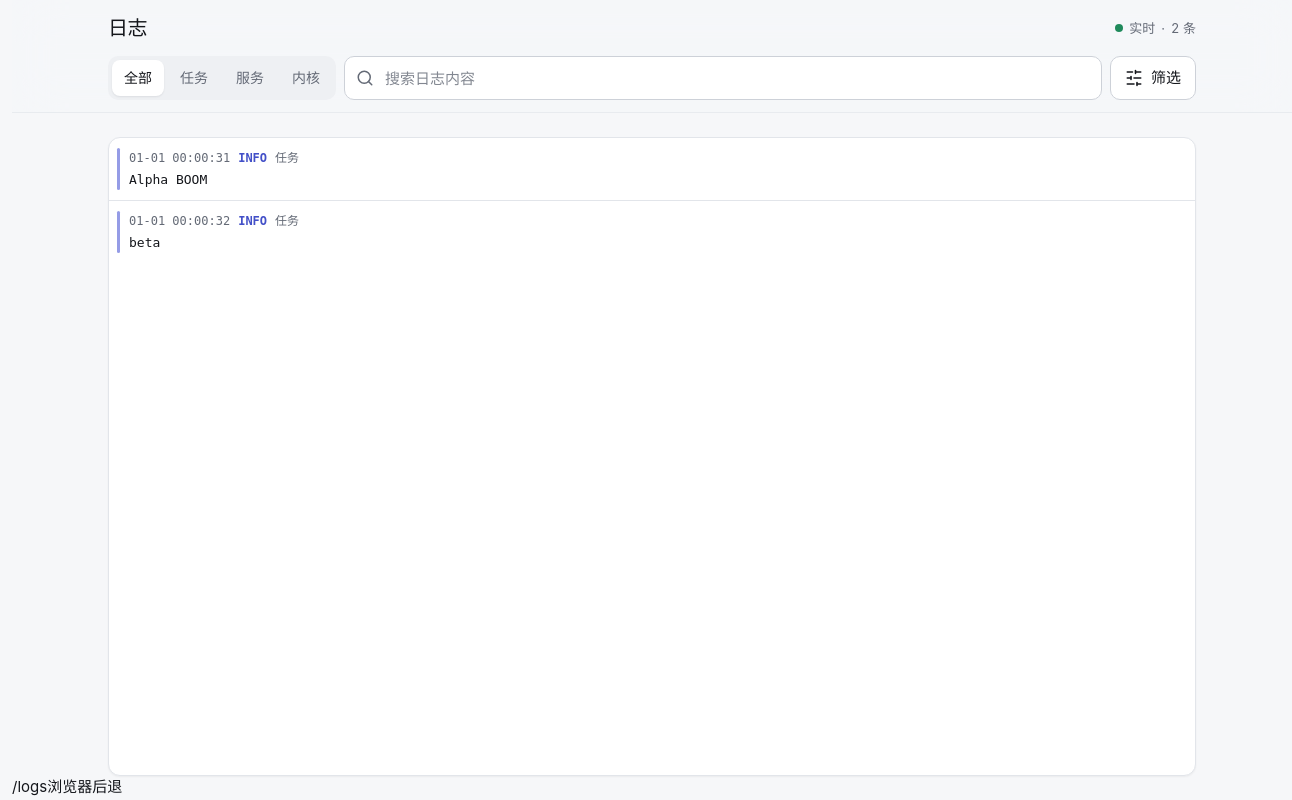
Test: logs page › searches content locally and sends the keyword to the history query
The image size is (1292, 800).
Expected: the text "beta" is shown, [129,235,160,250]
Type "boom" into the search field labelled "搜索日志". click: (723, 78)
box: [344,56,1102,100]
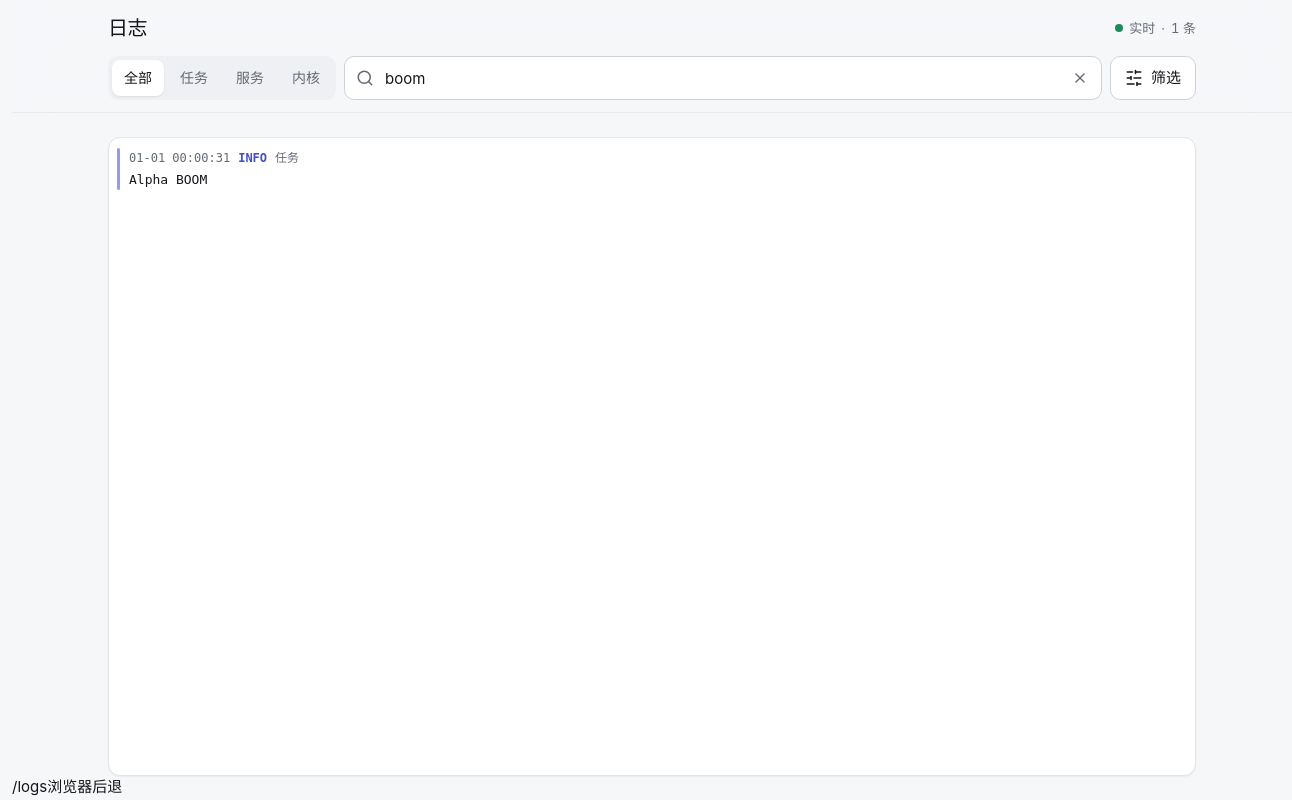
Expected: the text "Alpha BOOM" is shown, [129,172,207,187]
Expected: the button "beta" is gone
Click the button named "清除搜索". click: (1080, 78)
box: [1058,56,1102,100]
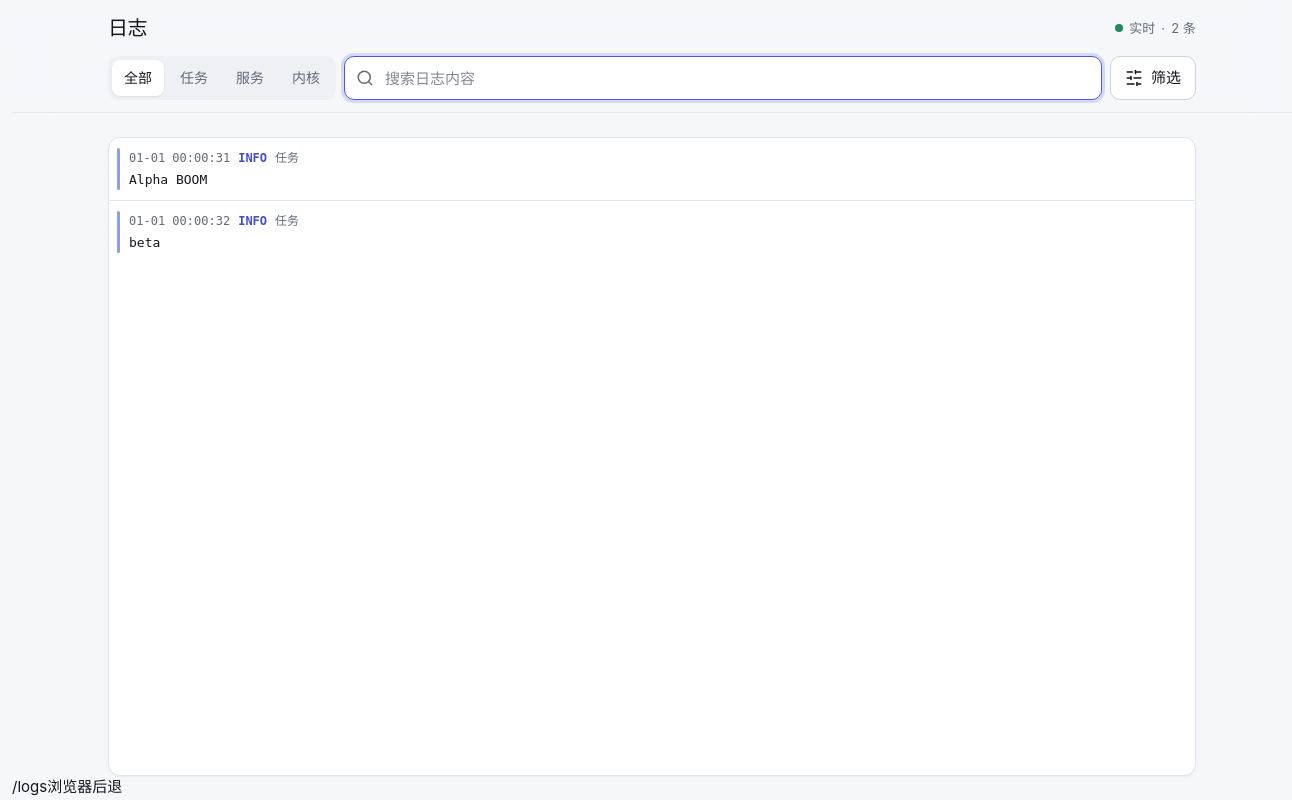
Expected: the search field labelled "搜索日志" is empty, [344,56,1102,100]
Expected: the text "beta" is shown, [129,235,160,250]
